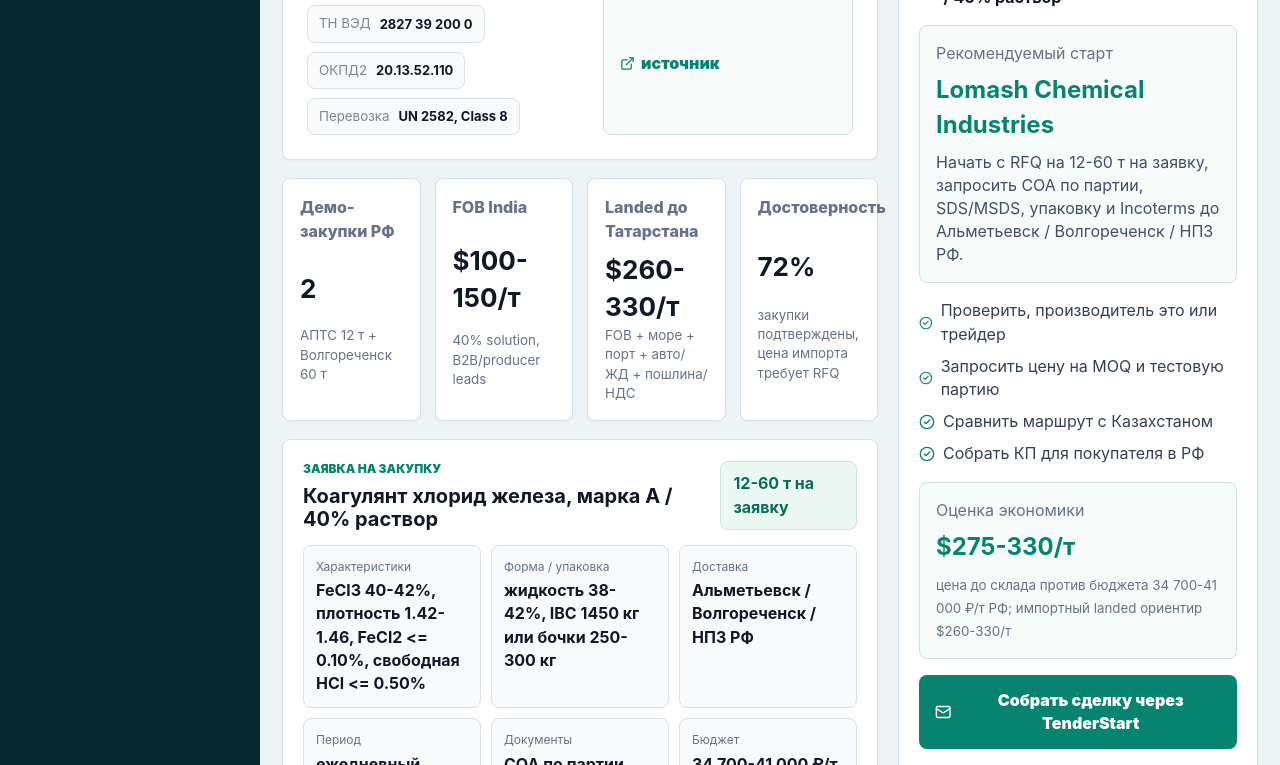
Test: TenderStart deal OS › shows a turnkey ferric chloride tender with India suppliers, docs and route costs
(page scrolled)
Expected: the heading "Lomash Chemical Industries" is shown, [936,74,1144,138]
Click the button "Собрать сделку через TenderStart": (1078,712) [919,675,1237,749]
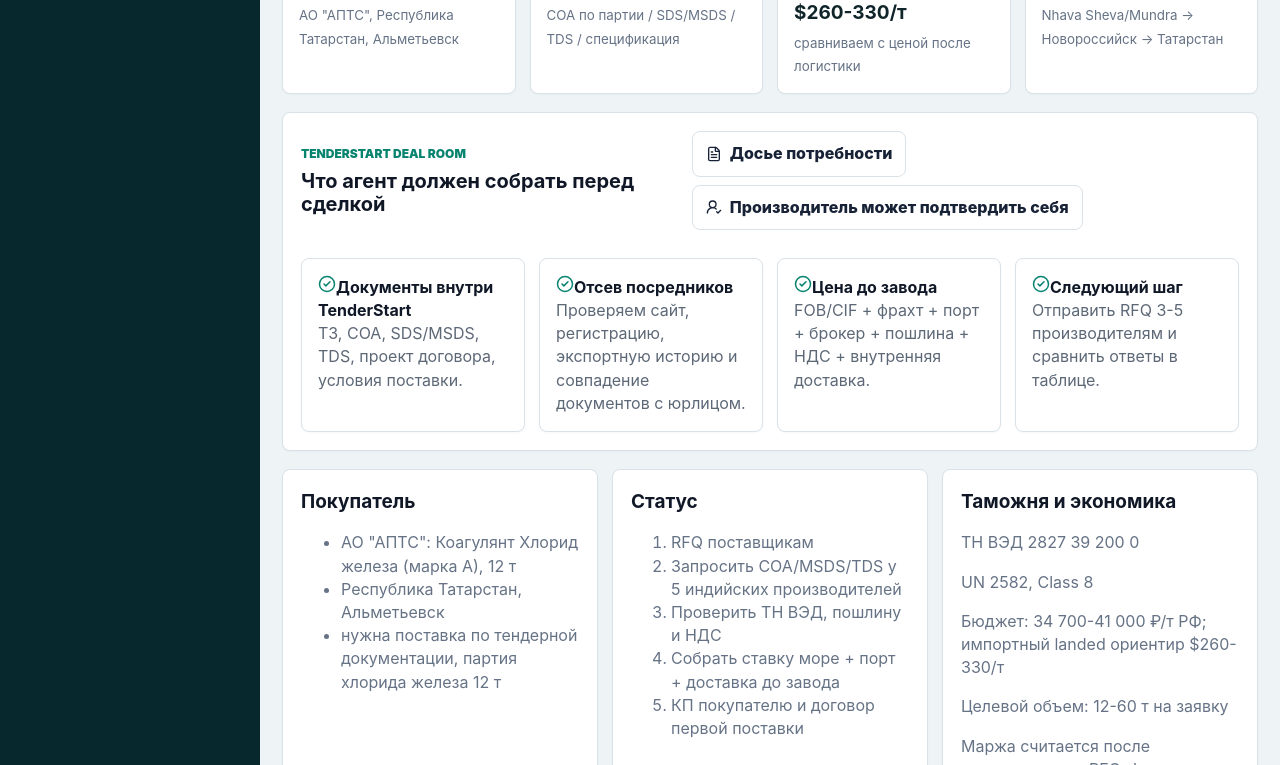
Expected: the text "ТН ВЭД 2827 39 200 0" is shown, [961,532,1139,552]
Expected: the list item "Запросить COA/MSDS/TDS у 5 индийских производителей" is shown, [671,555,909,601]
